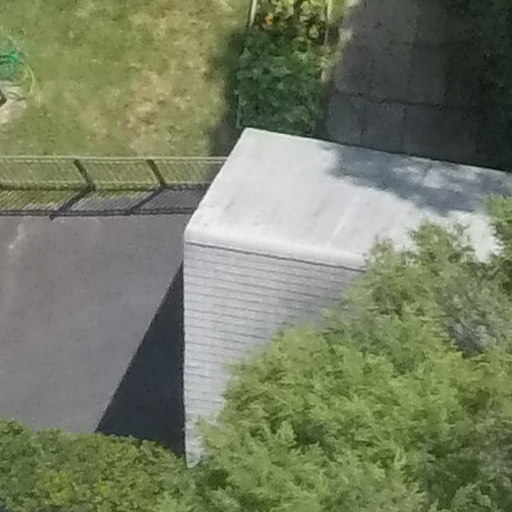fence: (1, 150, 234, 197)
